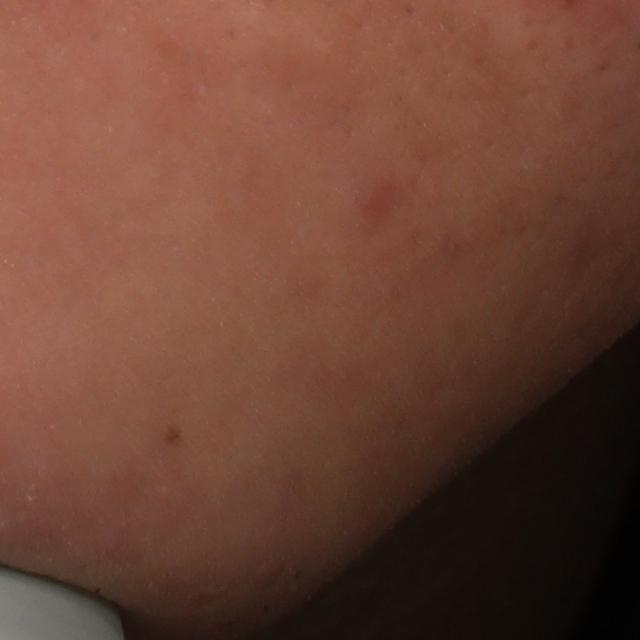nevus: (164, 422, 185, 448)
